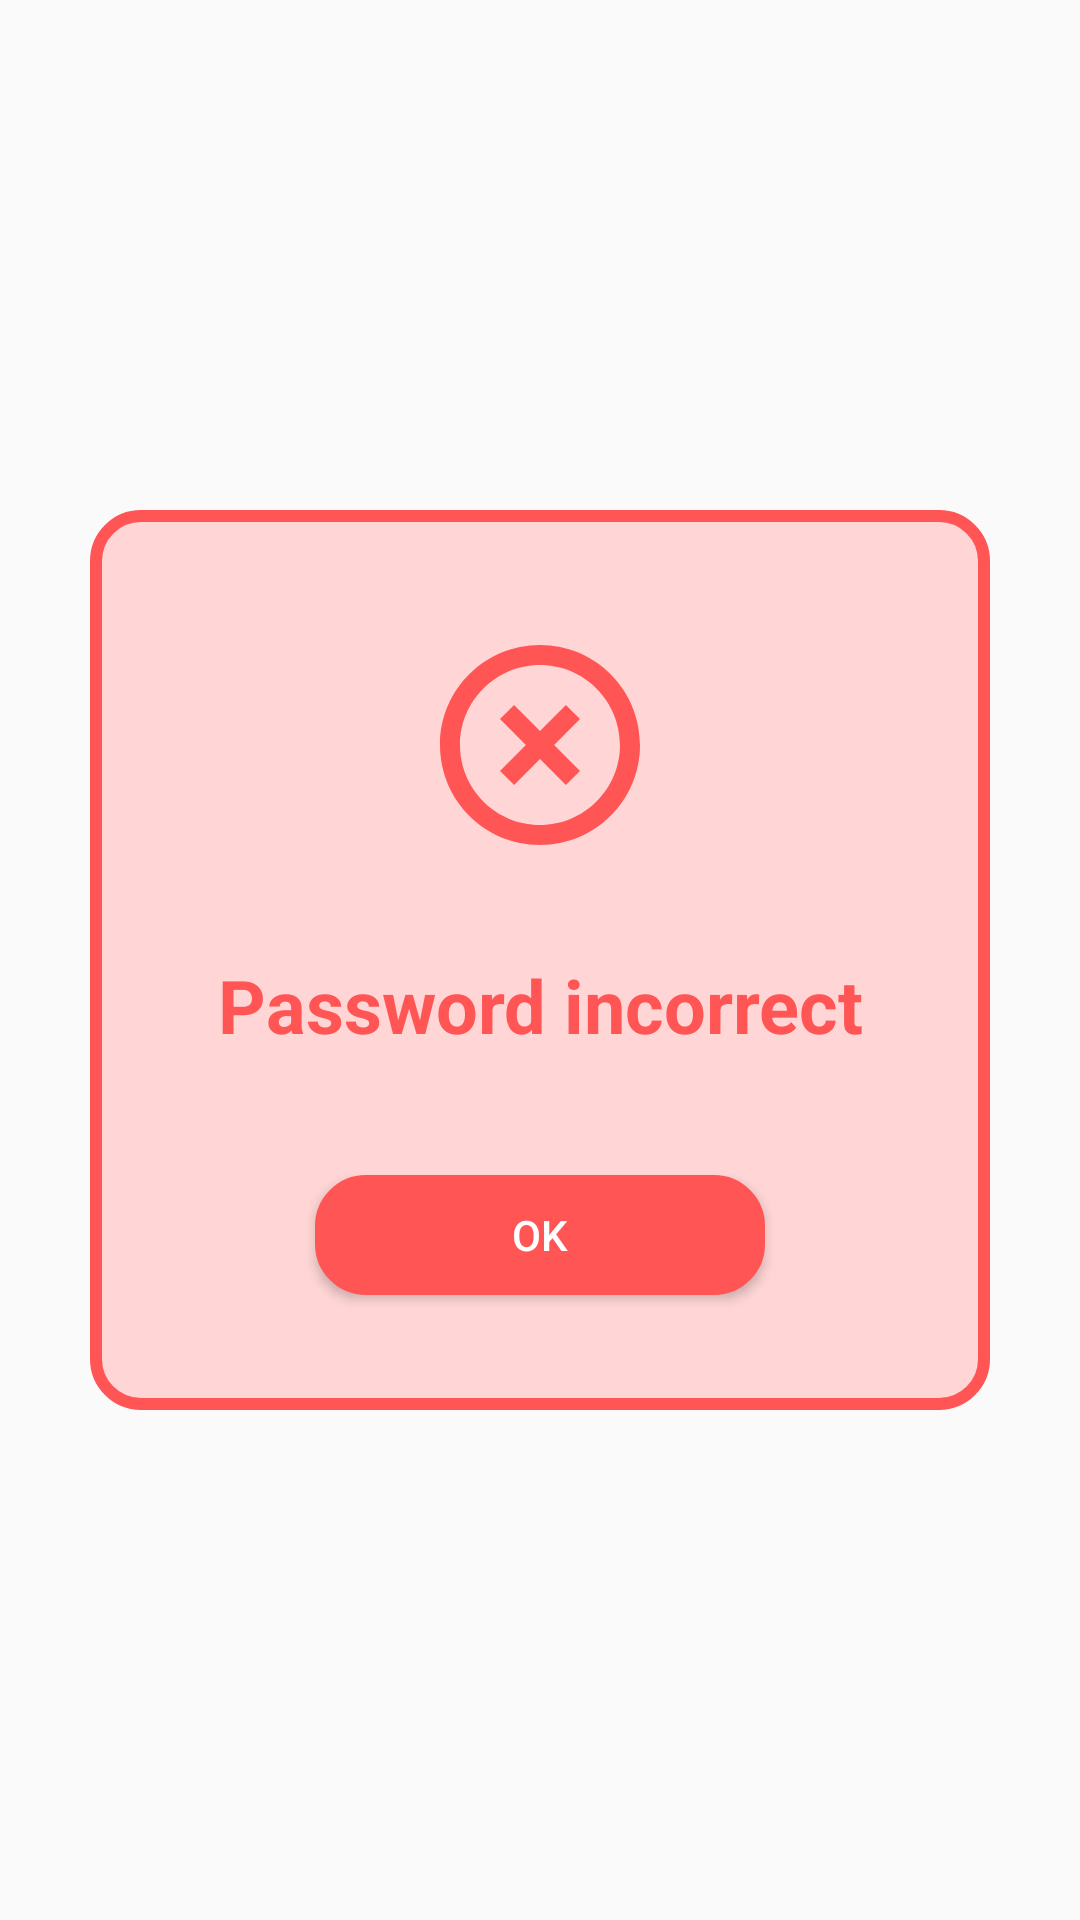

Where to tap for icons on this 1080*1920 app screen, as (x,y):
highlight off: (540,745)
